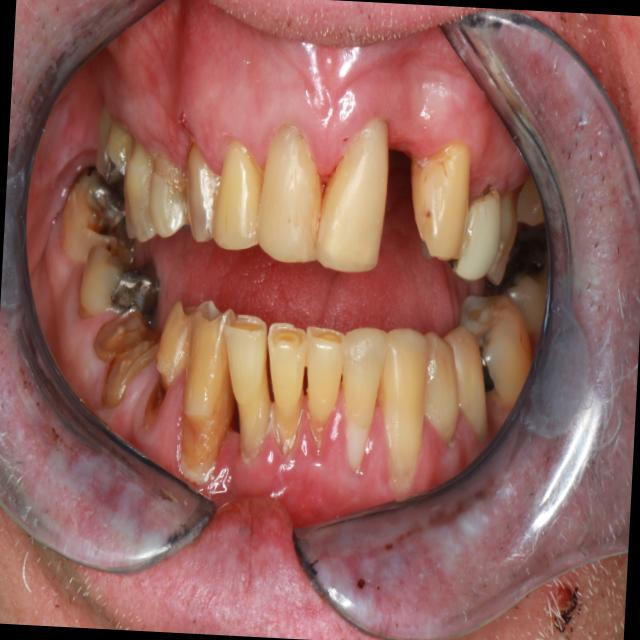tooth: (309, 110, 399, 280), (175, 285, 244, 493), (451, 281, 542, 420), (369, 318, 437, 496), (251, 118, 327, 273), (51, 155, 145, 275), (213, 304, 281, 469), (403, 128, 479, 266), (330, 313, 392, 478), (68, 235, 170, 333), (260, 309, 314, 467), (437, 316, 500, 448), (493, 223, 562, 338), (207, 129, 268, 257), (413, 321, 467, 456), (113, 131, 173, 248), (298, 312, 352, 441), (176, 133, 234, 250), (449, 177, 505, 294), (147, 287, 203, 401), (85, 297, 163, 372), (99, 332, 165, 420), (144, 142, 199, 245), (478, 177, 524, 292), (90, 102, 140, 190), (511, 165, 551, 235)
